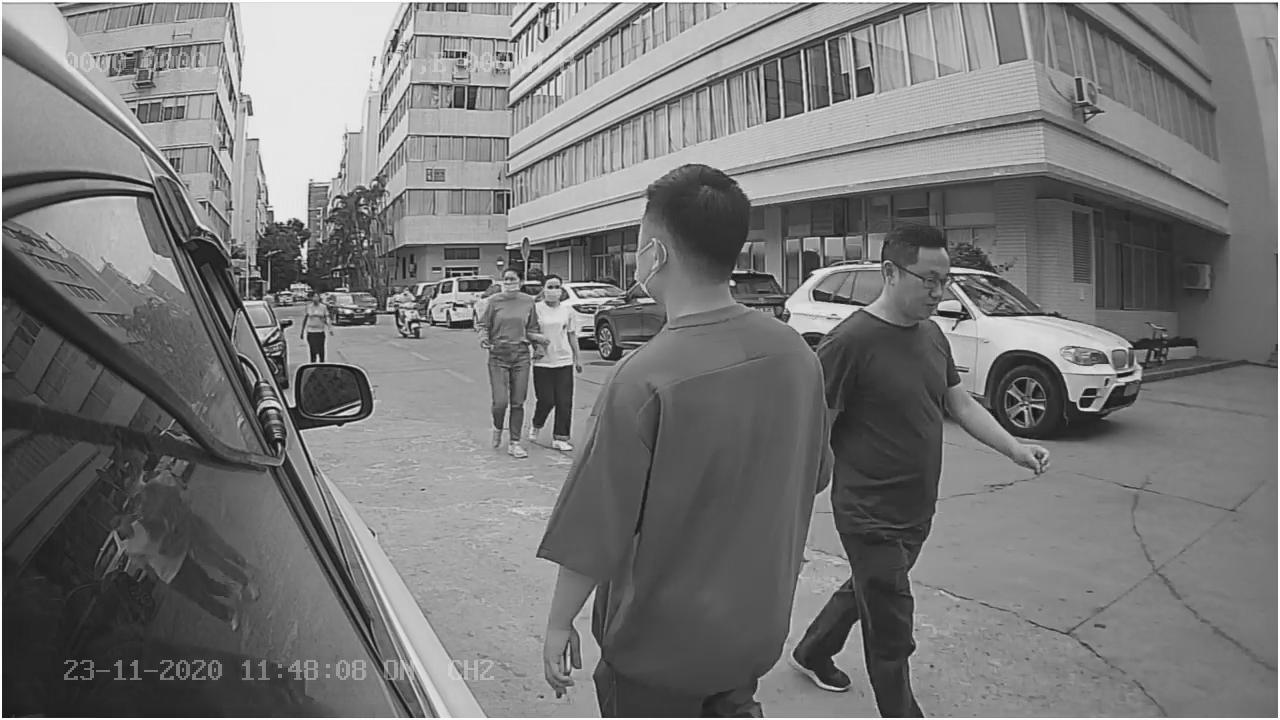person: (475, 259, 544, 460)
